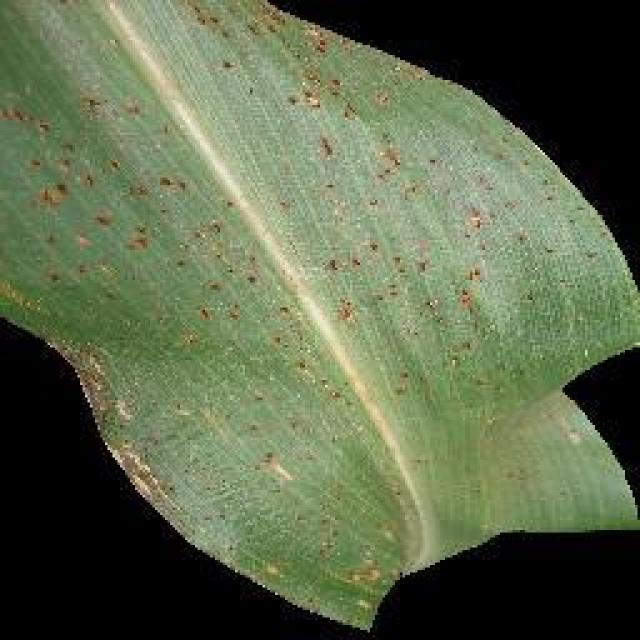Corn Common Rust: (114, 66, 518, 482)
